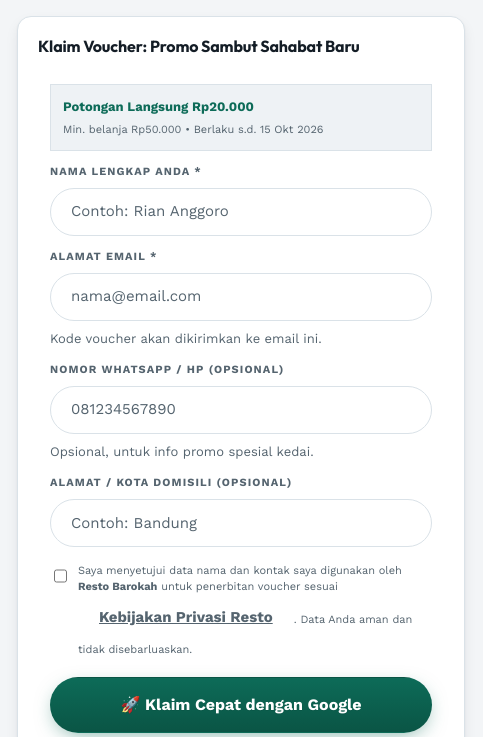
Test case: Komponen Formulir Pendaftaran Voucher (Daftar.tsx — T8-06, kontrak peladen PMB1-F-032) › menolak klaim jika menggunakan email sekali-pakai (T8-07)
Type "Budi Santoso" into the field with placeholder "Contoh: Rian Anggoro". click: x=241, y=212
box: [50, 188, 432, 236]
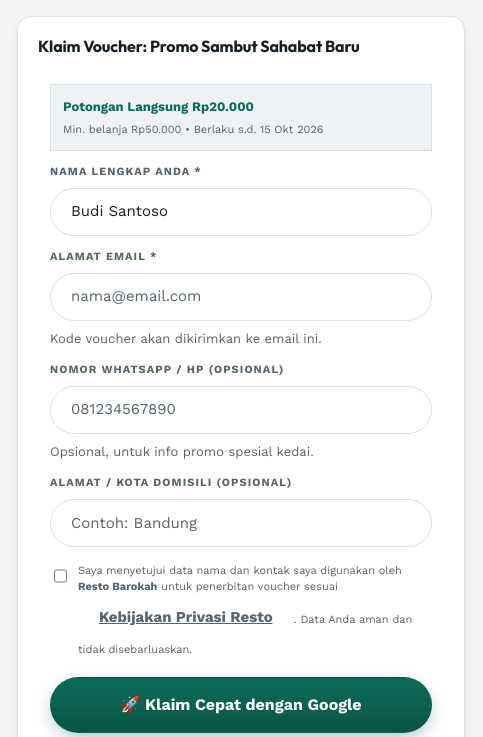
Type "budi@tempmail.com" into the field with placeholder "nama@email.com". click: x=241, y=297
box: [50, 273, 432, 321]
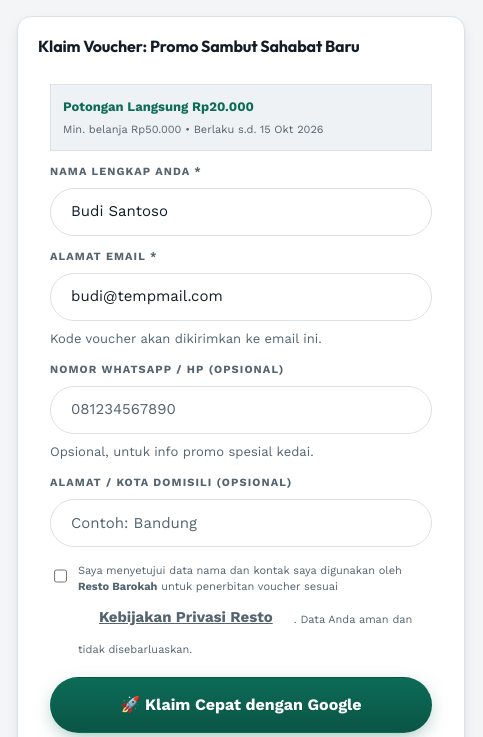
Click the checkbox with test id "centang-privasi-voucher". click: x=60, y=576
box: [54, 567, 67, 585]
(page scrolled)
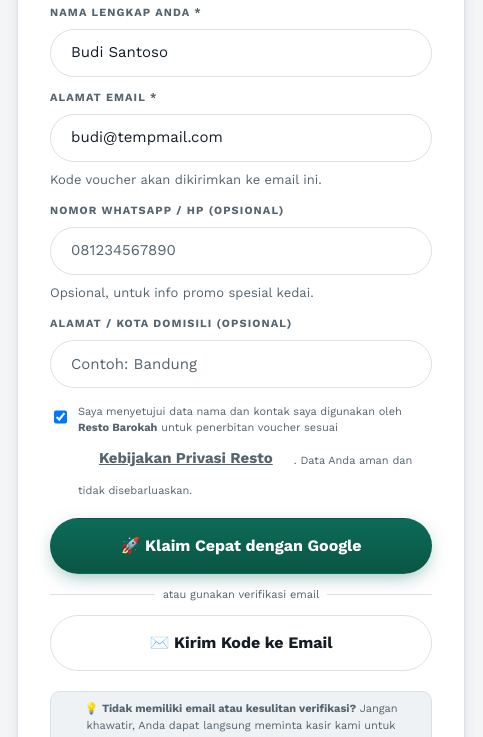
Click the button with aria-label "klaim voucher lewat email". click: x=241, y=643
box: [50, 615, 432, 671]
(page scrolled)
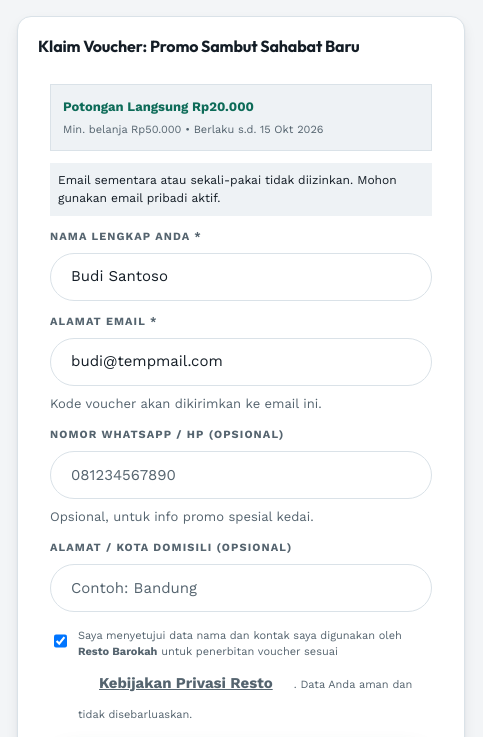
Check: the message shows "Email sementara atau sekali-pakai tidak diizinkan", box [58, 173, 397, 205]
